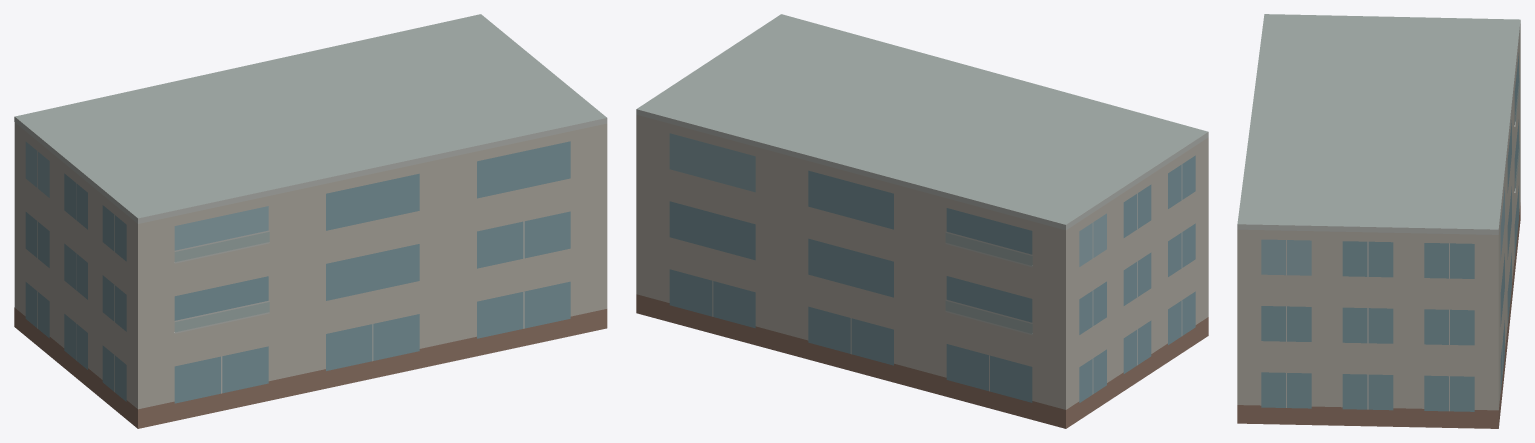
File: survey-upis-32768480.glb
3 renders of one model, left to right at view 1: azimuth 30°, elevation 25°; view 2: azimuth 150°, elevation 25°; view 3: azimuth 270°, elevation 25°, orthographic. The views are drawn at different scales.
Parts seen in each view (by area): view 1: survey-upis-32768480.tmp; view 2: survey-upis-32768480.tmp; view 3: survey-upis-32768480.tmp.
Boxes of the visible parts, box(x1,y1,x2,y2) form: survey-upis-32768480.tmp: box(14, 14, 607, 428); survey-upis-32768480.tmp: box(636, 14, 1208, 428); survey-upis-32768480.tmp: box(1237, 14, 1520, 428).
Bounding box in the file's own units: 21.25 × 9.15 × 11.8.
